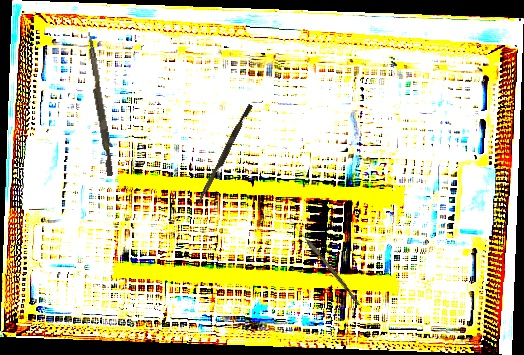Pusher: (196, 102, 253, 208), (81, 31, 118, 177)
Surgical Spoon: (286, 217, 363, 306)
